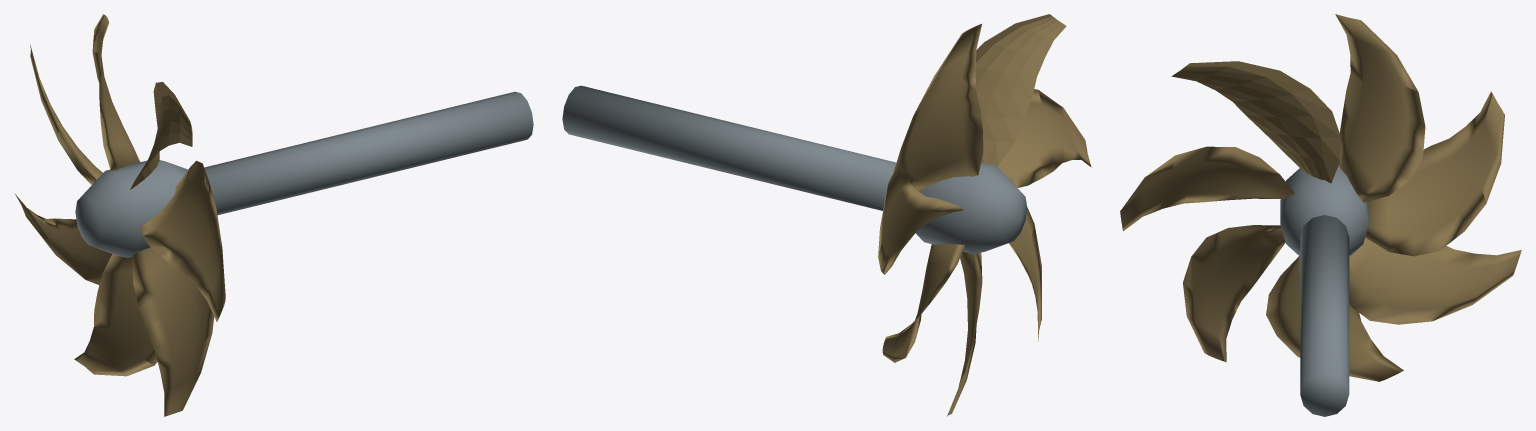
The model's file is RU_PROP_Akula_LOD2.fbx.
3 renders of one model, left to right at view 1: azimuth 30°, elevation 25°; view 2: azimuth 150°, elevation 25°; view 3: azimuth 270°, elevation 25°, orthographic. The views are drawn at different scales.
Parts seen in each view (by area): view 1: RU_PROP_Akula_LOD2_Shaft.001, RU_PROP_Akula_LOD2_Blade_04.001, RU_PROP_Akula_LOD2_Blade_03.001, RU_PROP_Akula_LOD2_Hub.001, RU_PROP_Akula_LOD2_Blade_05.001, RU_PROP_Akula_LOD2_Blade_06.001, RU_PROP_Akula_LOD2_Blade_01.001, RU_PROP_Akula_LOD2_Blade_02.001, RU_PROP_Akula_LOD2_Blade_00.001; view 2: RU_PROP_Akula_LOD2_Shaft.001, RU_PROP_Akula_LOD2_Blade_01.001, RU_PROP_Akula_LOD2_Blade_02.001, RU_PROP_Akula_LOD2_Hub.001, RU_PROP_Akula_LOD2_Blade_03.001, RU_PROP_Akula_LOD2_Blade_00.001, RU_PROP_Akula_LOD2_Blade_06.001, RU_PROP_Akula_LOD2_Blade_05.001, RU_PROP_Akula_LOD2_Blade_04.001; view 3: RU_PROP_Akula_LOD2_Blade_00.001, RU_PROP_Akula_LOD2_Blade_01.001, RU_PROP_Akula_LOD2_Blade_06.001, RU_PROP_Akula_LOD2_Shaft.001, RU_PROP_Akula_LOD2_Blade_02.001, RU_PROP_Akula_LOD2_Blade_04.001, RU_PROP_Akula_LOD2_Blade_03.001, RU_PROP_Akula_LOD2_Hub.001, RU_PROP_Akula_LOD2_Blade_05.001.
Part boxes in pixels (x1=…): RU_PROP_Akula_LOD2_Shaft.001: x1=204, y1=91, x2=533, y2=215; RU_PROP_Akula_LOD2_Blade_04.001: x1=132, y1=247, x2=214, y2=416; RU_PROP_Akula_LOD2_Blade_03.001: x1=139, y1=160, x2=225, y2=321; RU_PROP_Akula_LOD2_Hub.001: x1=75, y1=160, x2=188, y2=257; RU_PROP_Akula_LOD2_Blade_05.001: x1=74, y1=254, x2=157, y2=376; RU_PROP_Akula_LOD2_Blade_06.001: x1=15, y1=194, x2=112, y2=284; RU_PROP_Akula_LOD2_Blade_01.001: x1=92, y1=14, x2=140, y2=170; RU_PROP_Akula_LOD2_Blade_02.001: x1=130, y1=82, x2=192, y2=189; RU_PROP_Akula_LOD2_Blade_00.001: x1=30, y1=45, x2=102, y2=184; RU_PROP_Akula_LOD2_Shaft.001: x1=562, y1=85, x2=896, y2=210; RU_PROP_Akula_LOD2_Blade_01.001: x1=893, y1=24, x2=983, y2=191; RU_PROP_Akula_LOD2_Blade_02.001: x1=975, y1=14, x2=1066, y2=166; RU_PROP_Akula_LOD2_Hub.001: x1=915, y1=162, x2=1027, y2=254; RU_PROP_Akula_LOD2_Blade_03.001: x1=998, y1=89, x2=1091, y2=187; RU_PROP_Akula_LOD2_Blade_00.001: x1=878, y1=162, x2=963, y2=274; RU_PROP_Akula_LOD2_Blade_06.001: x1=882, y1=244, x2=964, y2=362; RU_PROP_Akula_LOD2_Blade_05.001: x1=947, y1=251, x2=982, y2=416; RU_PROP_Akula_LOD2_Blade_04.001: x1=1009, y1=207, x2=1041, y2=341; RU_PROP_Akula_LOD2_Blade_00.001: x1=1365, y1=91, x2=1504, y2=256; RU_PROP_Akula_LOD2_Blade_01.001: x1=1335, y1=14, x2=1425, y2=202; RU_PROP_Akula_LOD2_Blade_06.001: x1=1349, y1=237, x2=1521, y2=324; RU_PROP_Akula_LOD2_Shaft.001: x1=1300, y1=215, x2=1349, y2=416; RU_PROP_Akula_LOD2_Blade_02.001: x1=1171, y1=61, x2=1340, y2=183; RU_PROP_Akula_LOD2_Blade_04.001: x1=1183, y1=225, x2=1285, y2=362; RU_PROP_Akula_LOD2_Blade_03.001: x1=1120, y1=146, x2=1294, y2=231; RU_PROP_Akula_LOD2_Hub.001: x1=1280, y1=165, x2=1369, y2=256; RU_PROP_Akula_LOD2_Blade_05.001: x1=1266, y1=256, x2=1403, y2=381.
Bounding box in the file's own units: 563 × 452 × 452.
